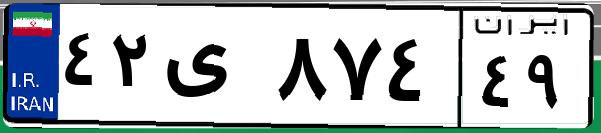2: (110, 28, 158, 98)
4: (385, 28, 445, 110), (57, 26, 110, 100), (475, 38, 525, 113)
7: (330, 28, 385, 110)
8: (270, 28, 330, 110)
9: (525, 38, 570, 115)
ی: (158, 20, 270, 120)
